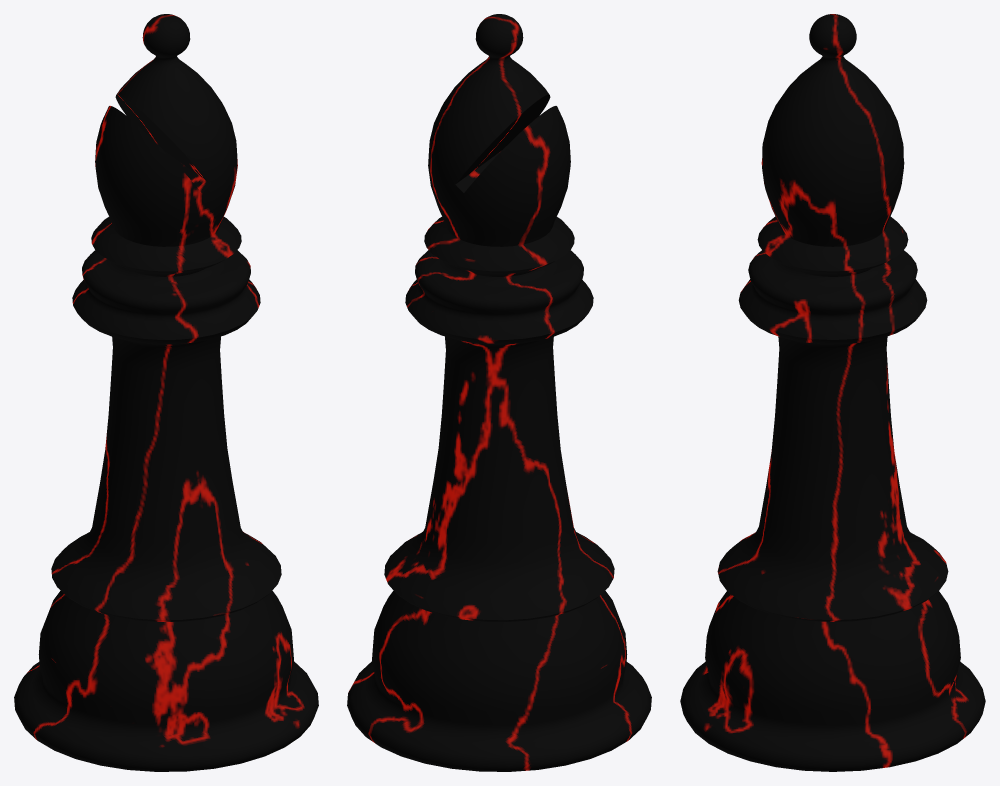
The model's file is BlackBishop.glb.
3 views of the same model, side by side, from view 1: azimuth 30°, elevation 25°; view 2: azimuth 150°, elevation 25°; view 3: azimuth 270°, elevation 25° (orthographic).
Visible parts, largest first — view 1: Bishop; view 2: Bishop; view 3: Bishop.
Part boxes in pixels (bbox=[...]): Bishop: bbox=[14, 14, 318, 771]; Bishop: bbox=[347, 14, 651, 771]; Bishop: bbox=[680, 14, 985, 771].
Size of the model in its own units: 0.189 by 0.4756 by 0.189.
Materials: 1 (1 with a texture image).
